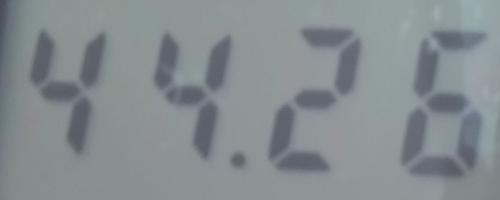.: (226, 149, 252, 169)
